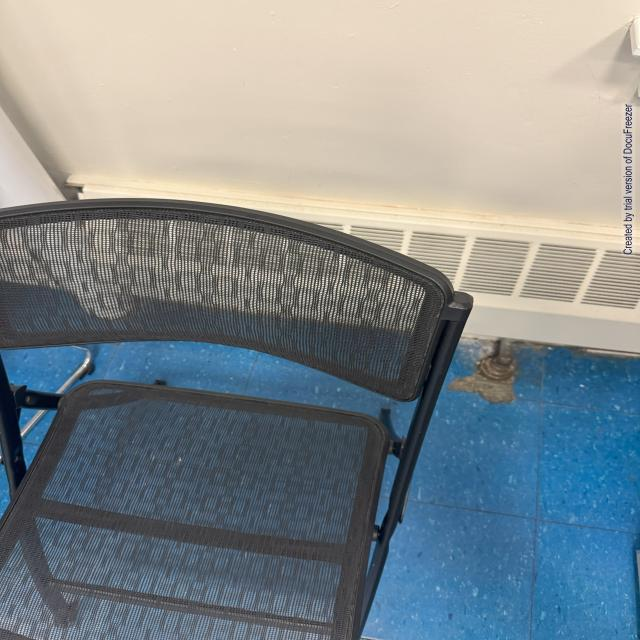chair: (0, 189, 508, 640)
